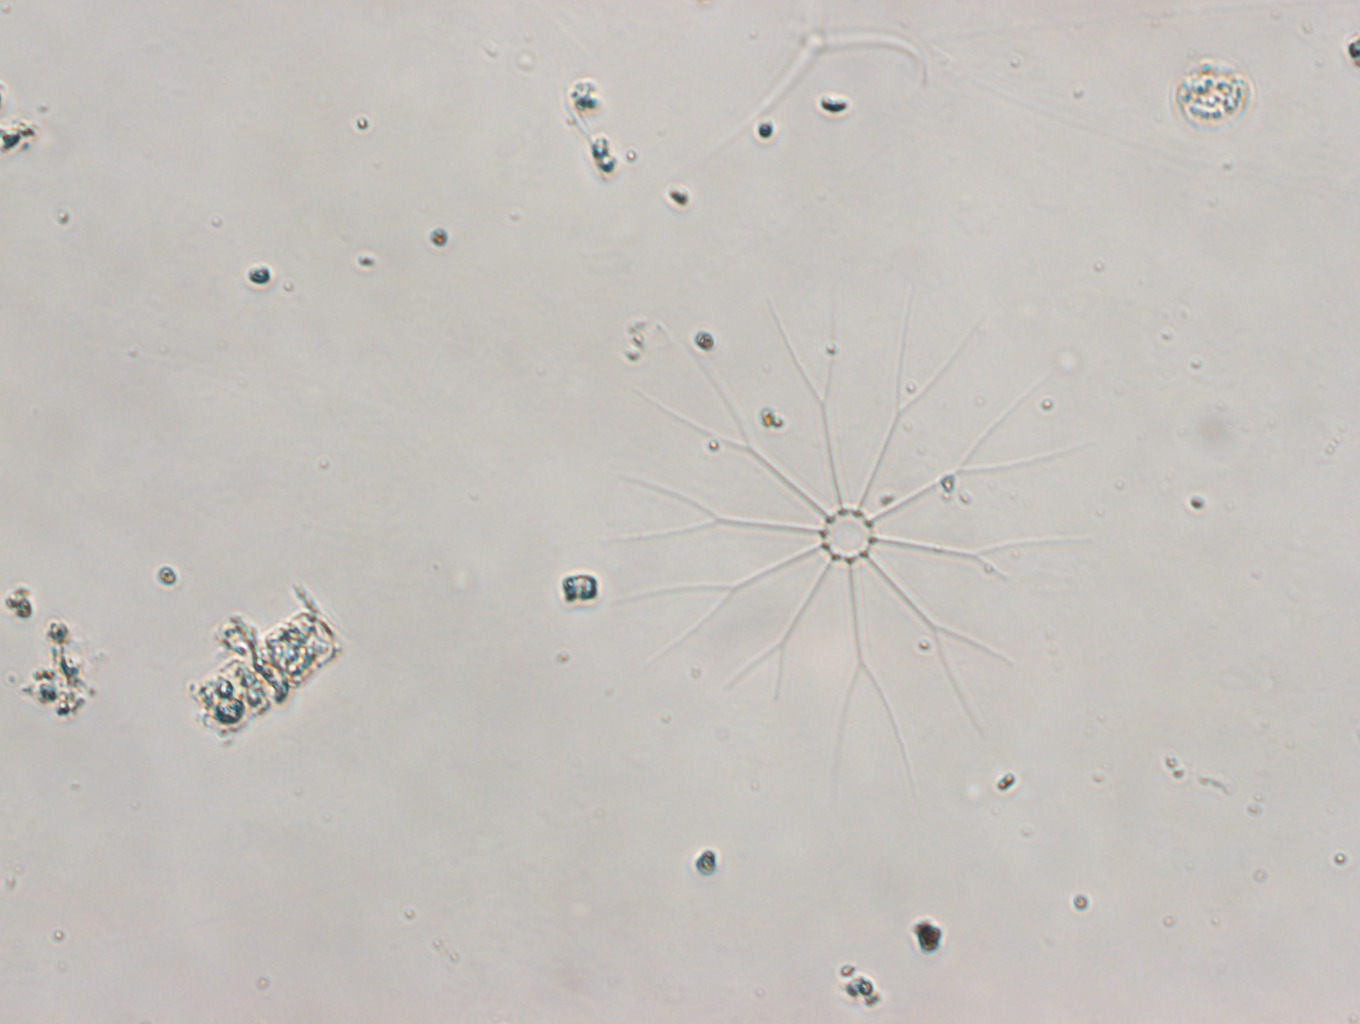bacteriastrum: (602, 289, 1111, 783)
